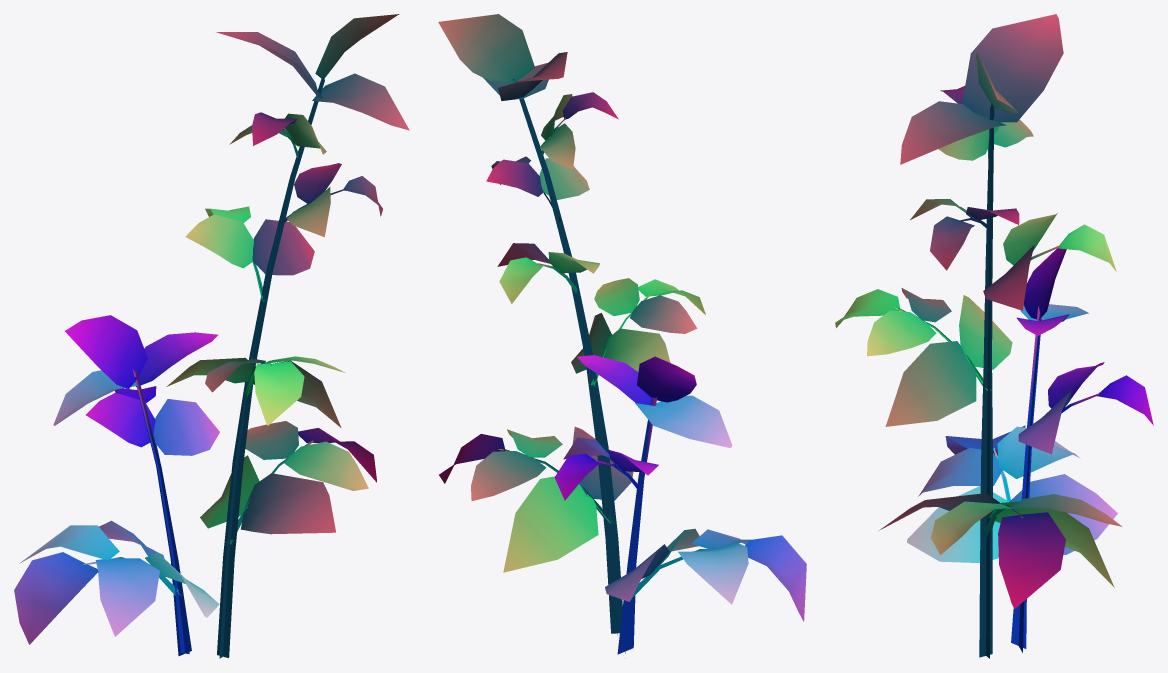
The model's file is Raspberry_wf0oefeja_High_wf0oefeja_VarB_LOD1.fbx.
3 views of the same model, side by side, from view 1: azimuth 30°, elevation 25°; view 2: azimuth 150°, elevation 25°; view 3: azimuth 270°, elevation 25° (orthographic). The views are drawn at different scales.
Parts seen in each view (by area): view 1: _davv_VarB_LOD2; view 2: _davv_VarB_LOD2; view 3: _davv_VarB_LOD2.
Part boxes in pixels (left/top/right/bottom): _davv_VarB_LOD2: left=14, top=14, right=409, bottom=658; _davv_VarB_LOD2: left=438, top=14, right=806, bottom=658; _davv_VarB_LOD2: left=835, top=14, right=1153, bottom=658.
Bounding box in the file's own units: 20.71 × 32.34 × 13.77.
